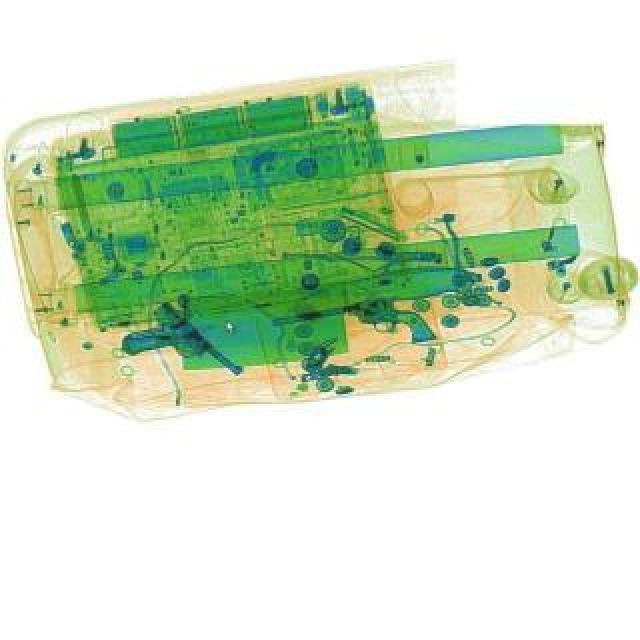gun: (114, 298, 244, 414), (266, 288, 434, 364)
knife: (174, 260, 482, 374)
